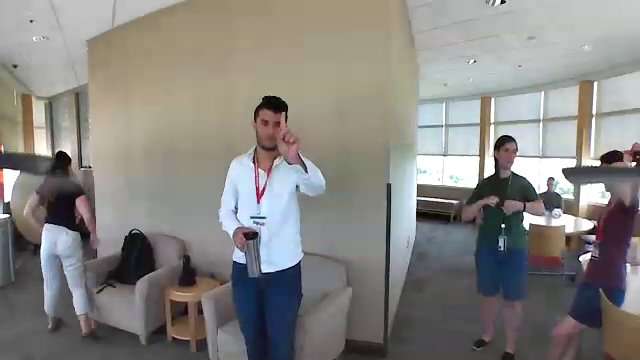up: (271, 107, 303, 162)
